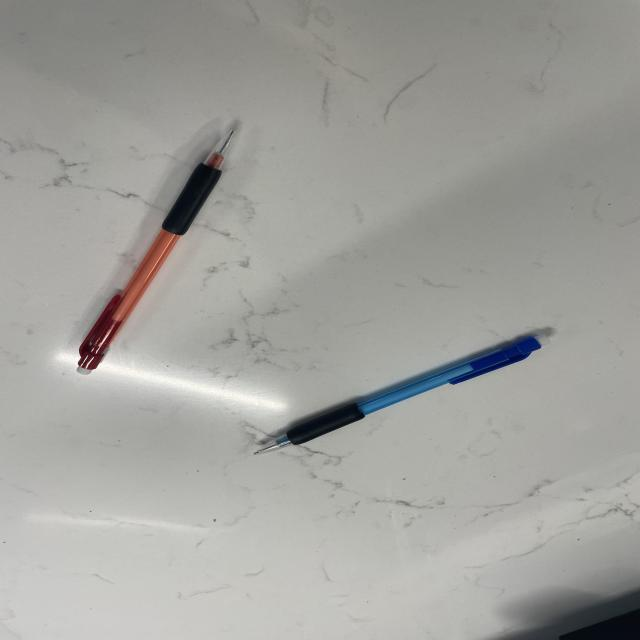mechanical-pencils: (72, 124, 239, 377), (254, 335, 550, 459)
